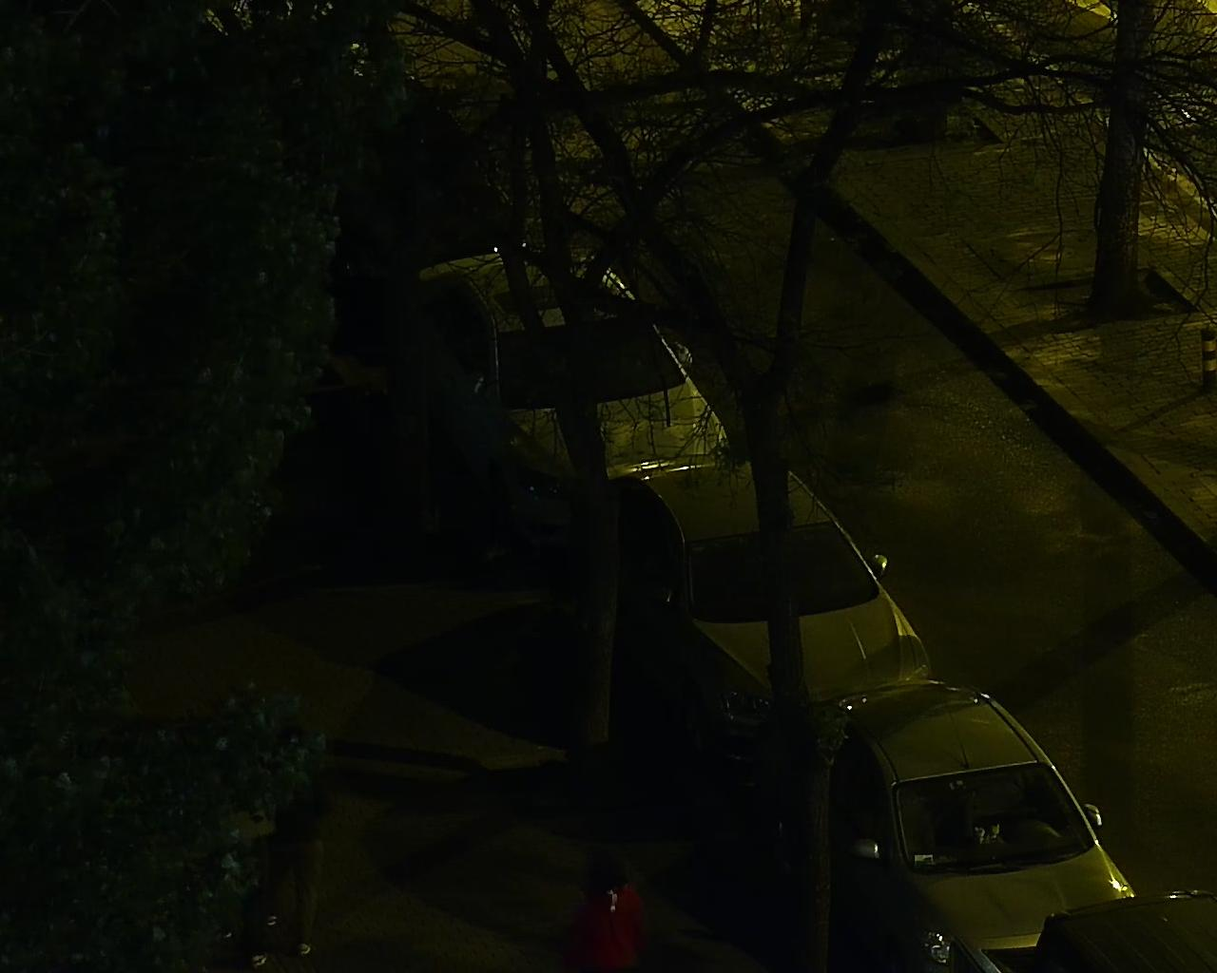person: (197, 736, 270, 961), (262, 740, 333, 944), (557, 836, 630, 973)
